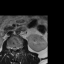CCS_stenosis: (14, 45, 15, 52)
LFS_normal: (17, 45, 19, 50)
LLS_normal: (15, 46, 17, 51)
RFS_normal: (10, 45, 12, 50)
RLS_normal: (12, 45, 14, 50)
